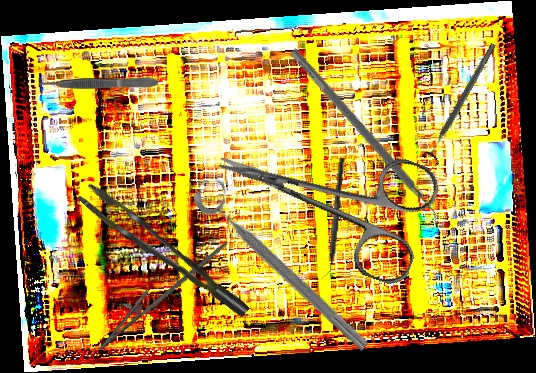Chopper: (320, 157, 345, 281)
Fixation Ring: (190, 173, 382, 356), (420, 39, 503, 166)
Iris Scissors: (200, 99, 445, 290)
Needle Holder: (88, 218, 229, 366)
Spatula Surgical: (281, 47, 449, 231)
Tissue Forceps: (76, 168, 251, 338), (39, 77, 158, 89)
